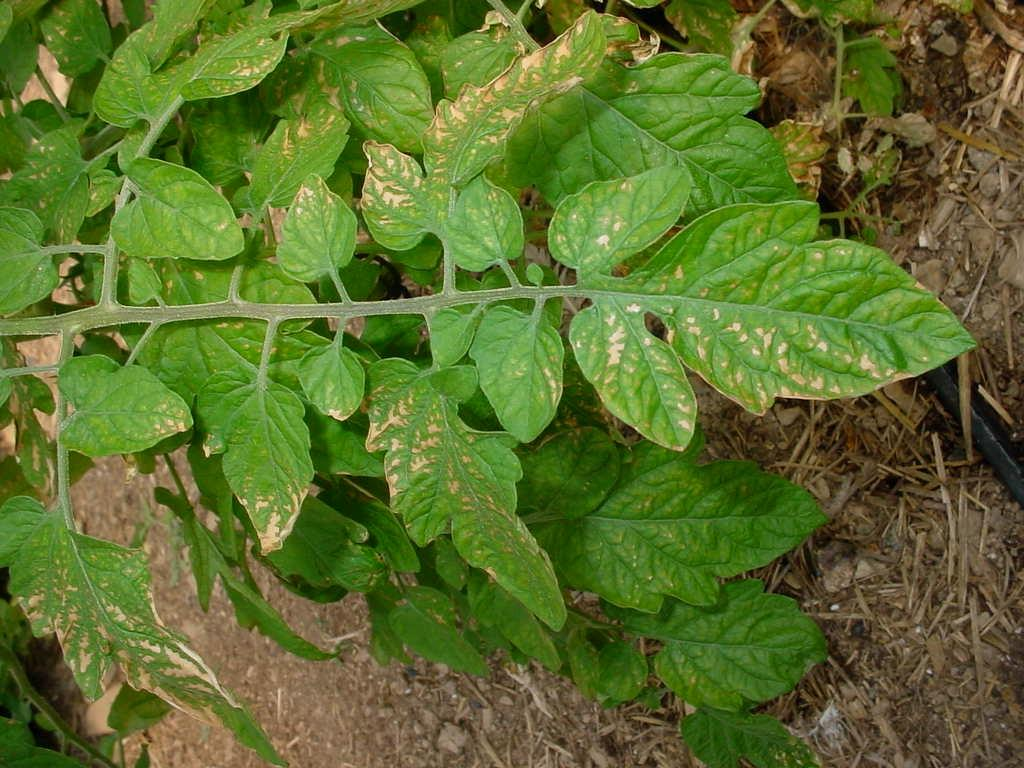Tomato leaf bacterial spot: (616, 187, 980, 438), (333, 15, 612, 278), (366, 318, 569, 634), (168, 362, 344, 584), (44, 313, 226, 492), (556, 288, 708, 469), (121, 122, 256, 277), (469, 296, 582, 444), (545, 169, 692, 278), (268, 176, 360, 309), (289, 330, 372, 429)
